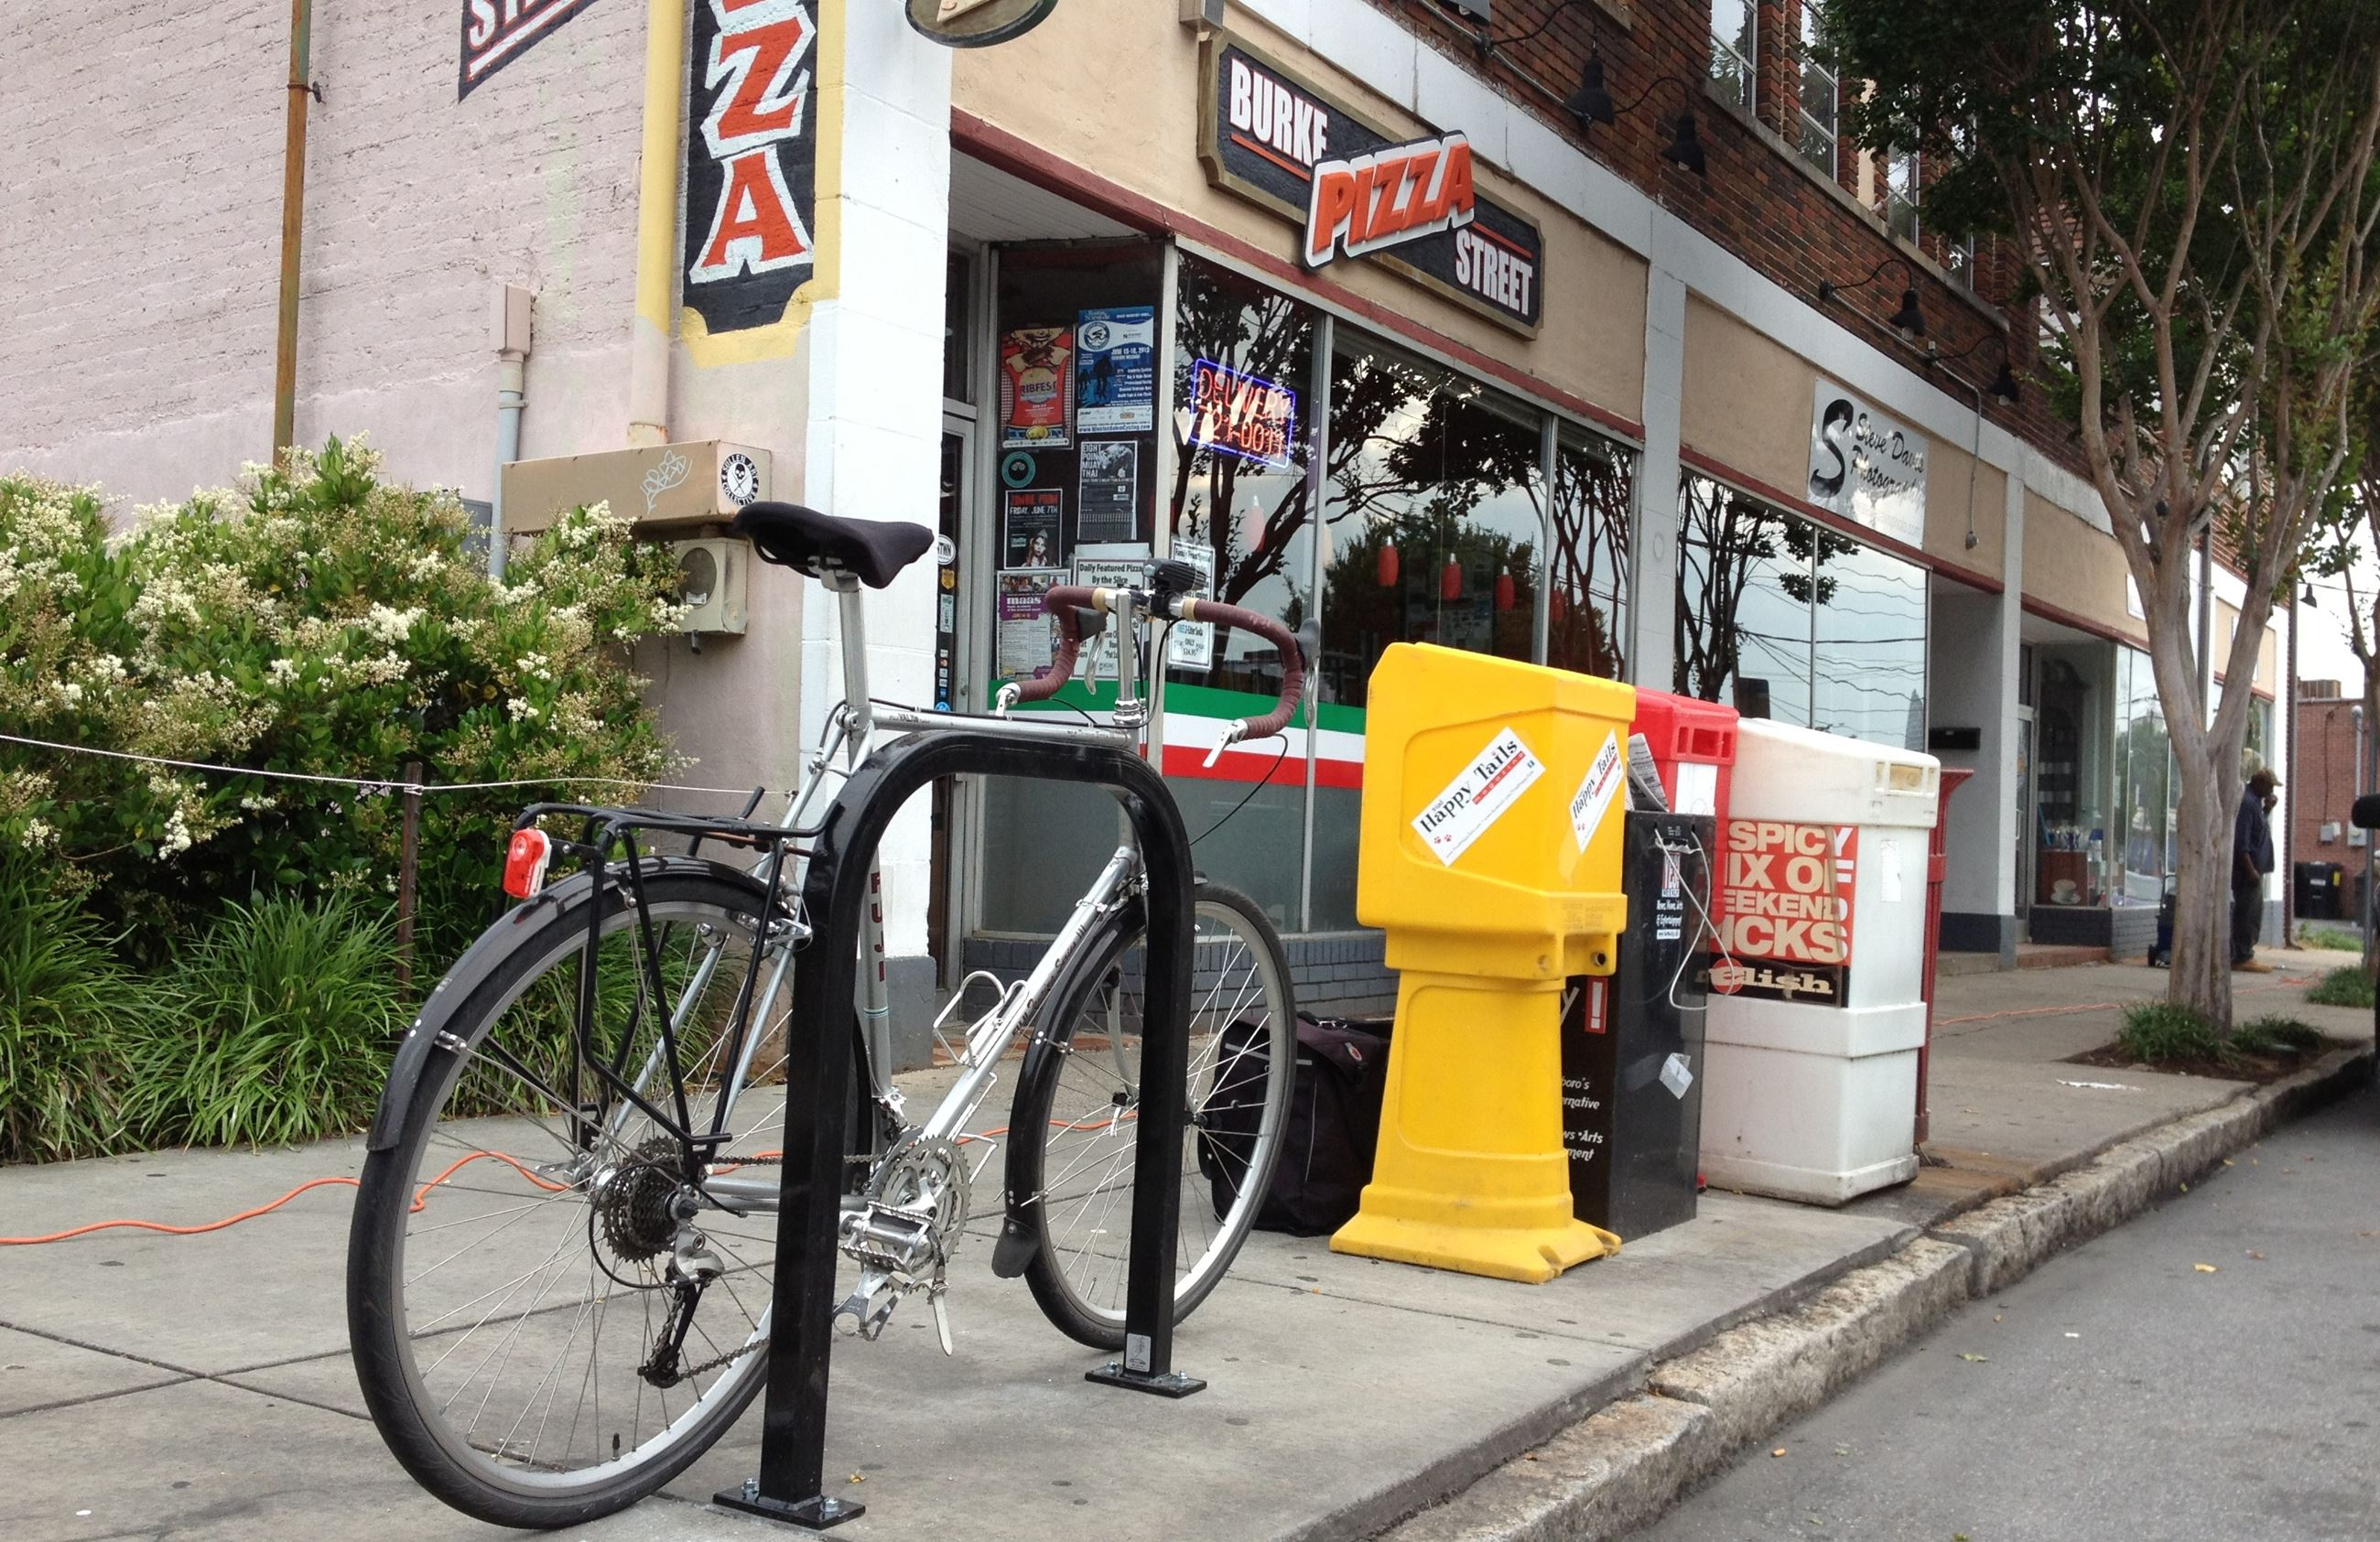bike: (349, 484, 1337, 1478)
